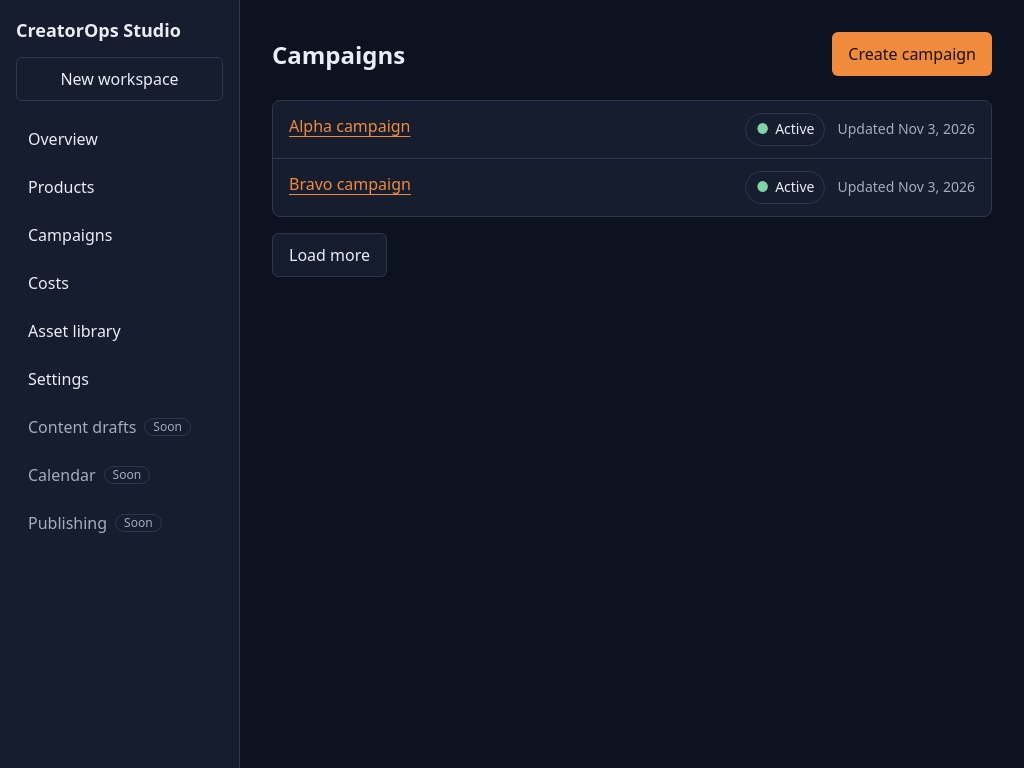
Test case: CampaignsPage › loads the next page with Load more until nextCursor is null
This screenshot has width=1024, height=768.
expect the link "Bravo campaign" is shown: met, box [289,173,411,195]
expect the link "Charlie campaign" is not shown: met
Click the button "Load more".
click(330, 254)  # box [272,232,387,276]
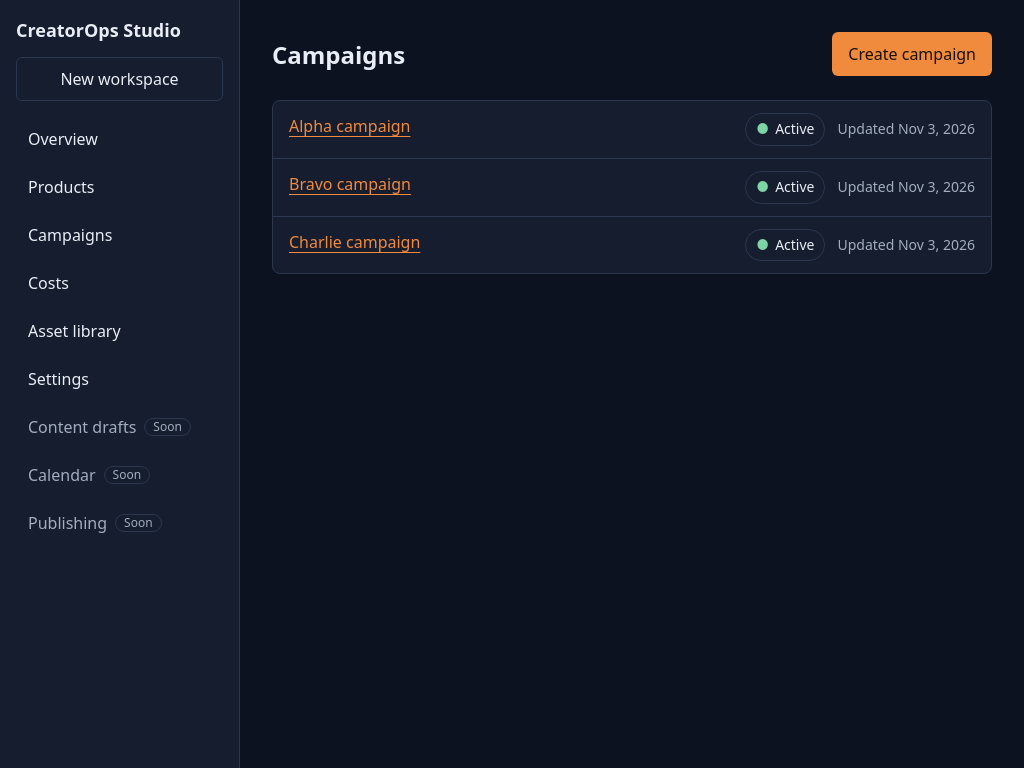
expect the link "Charlie campaign" is shown: met, box [289,230,420,252]
expect the button "Load more" is gone: met
